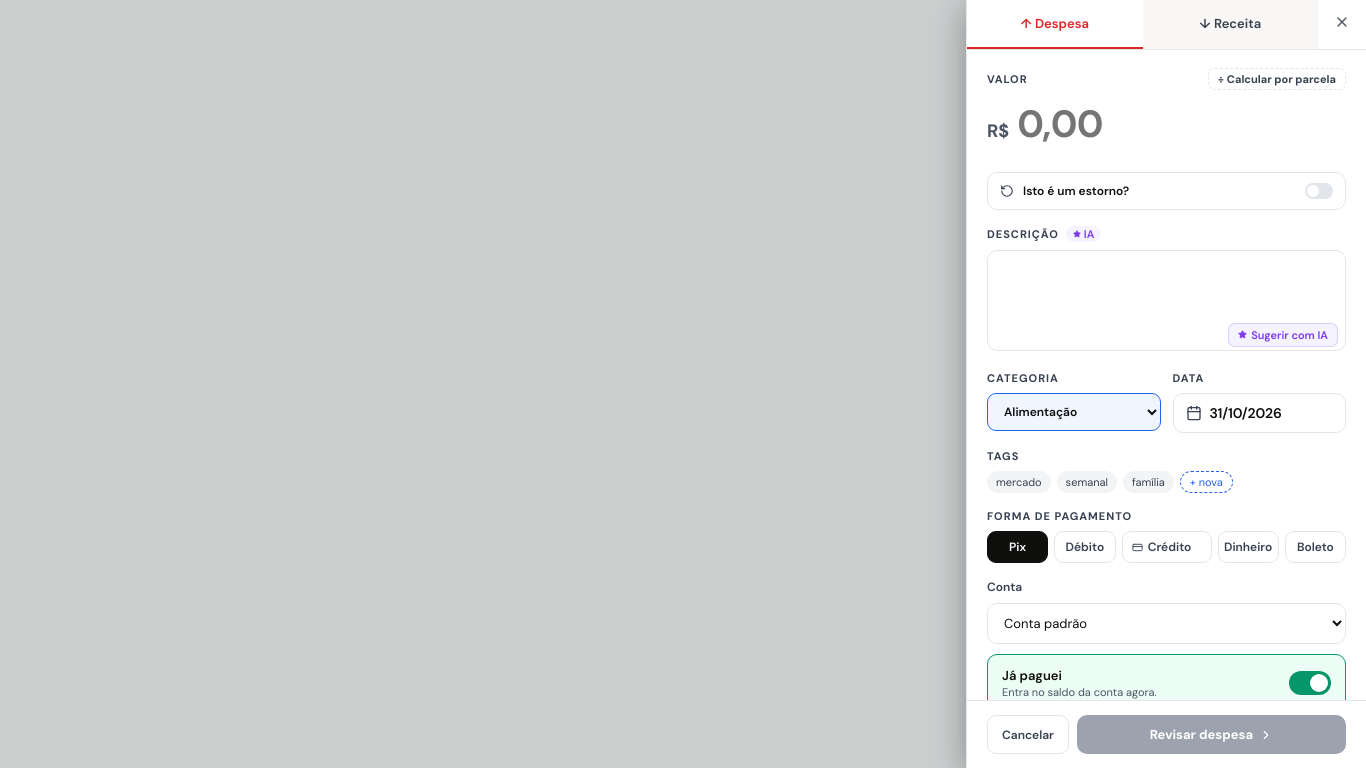
it: NovaTransacaoModal — quick-add de tag detalhe (regressão #100, achado 1) › digitar "grocery" no quick-add cria o chip com o rótulo canônico "mercado", não o texto digitado
Select "Alimentação" in the dropdown showing "Alimentação" below "Categoria" at (1074, 412), box [987, 392, 1160, 430]
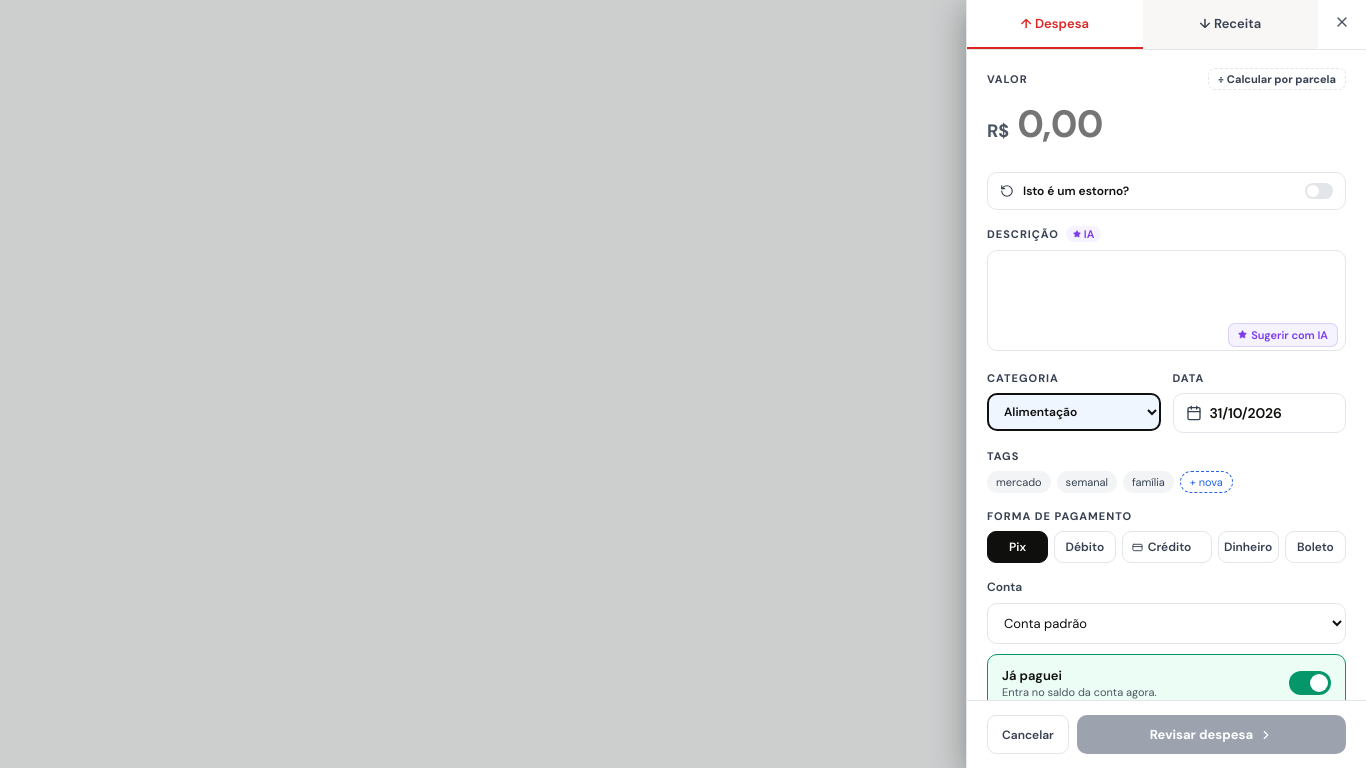
Click the text "+ nova" at (1206, 482), box [1180, 471, 1233, 493]
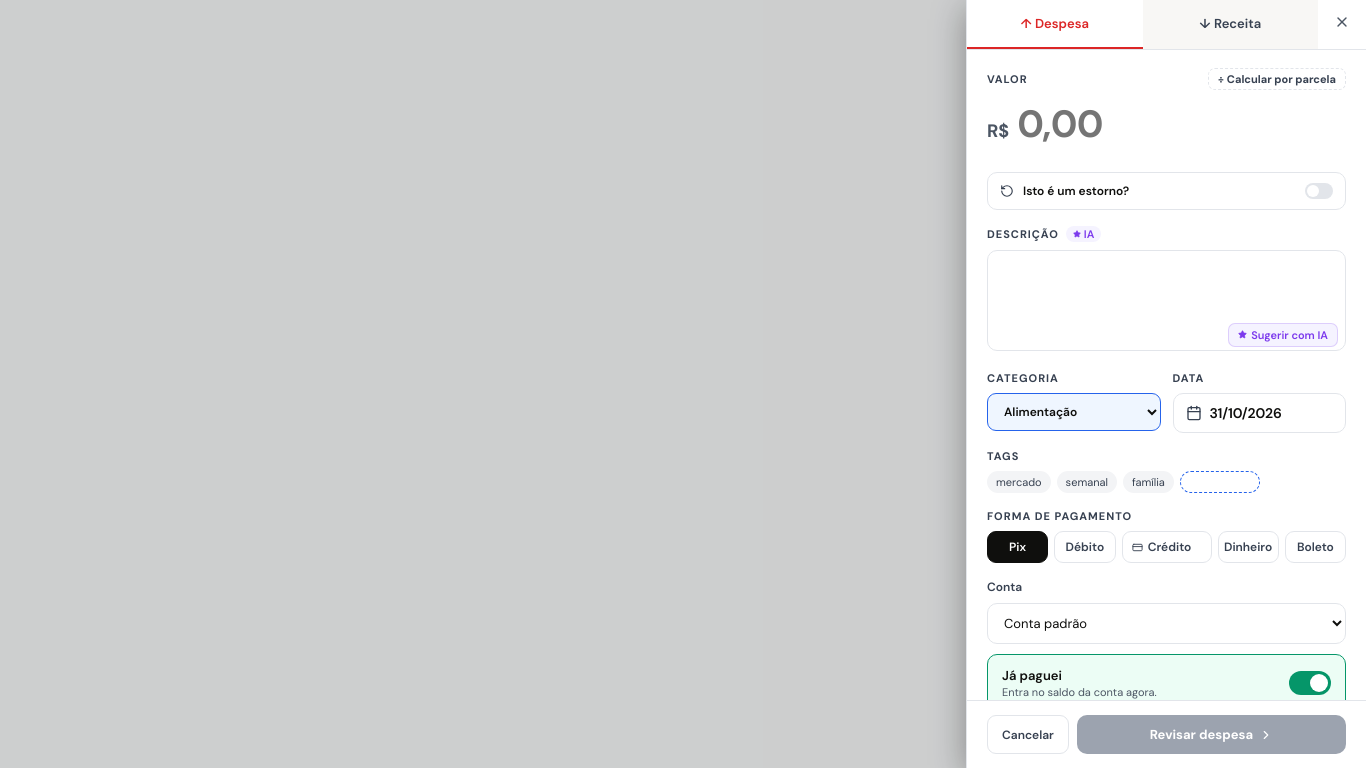
Type "grocery" into the 2nd field at (1220, 482), box [1180, 471, 1260, 493]
Then press Enter
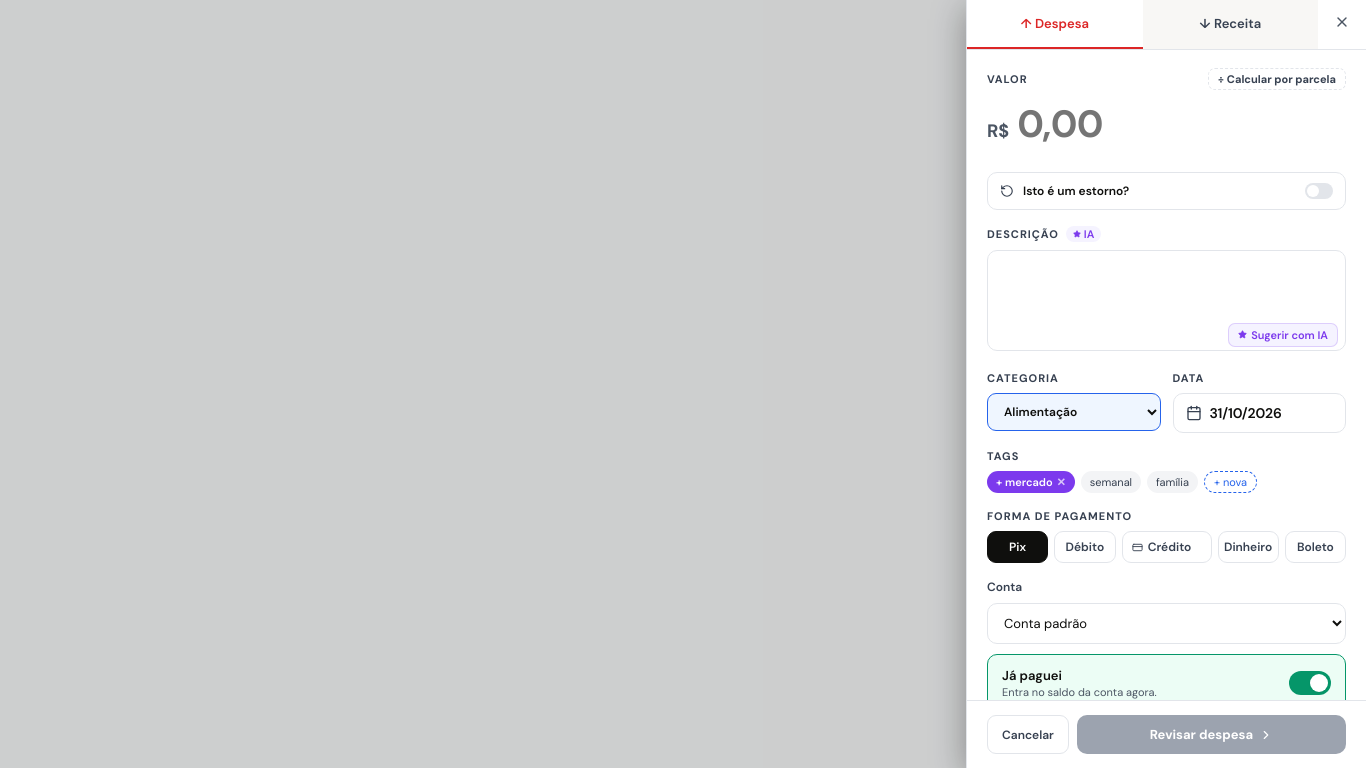
Expected: the text "+ mercado ✕" is shown, [987, 471, 1075, 493]
